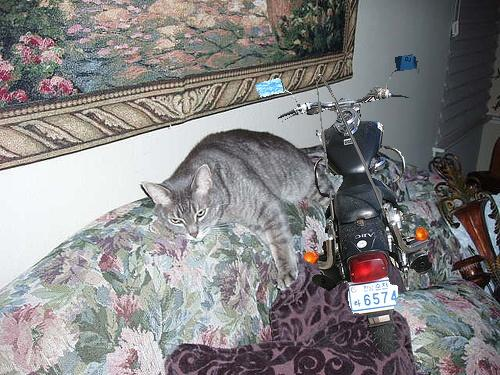tampered: (256, 55, 432, 353)
